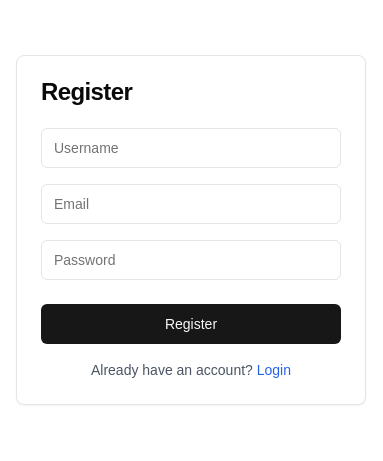
Test case: RegisterPage › validates empty fields
What coordinates should you click on to do the following:
click the button "Register"
I would click on:
 (191, 324)
Its box is [41,304,341,344].
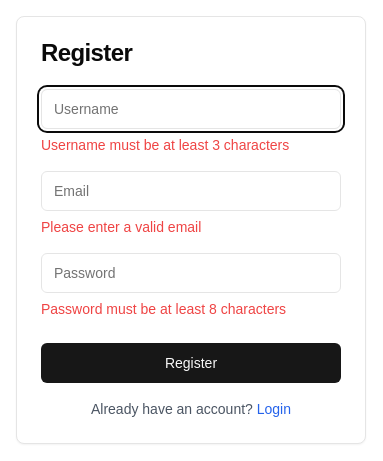
Now the text "Username must be at least 3 characters" is shown, box [41,137,289,153]
